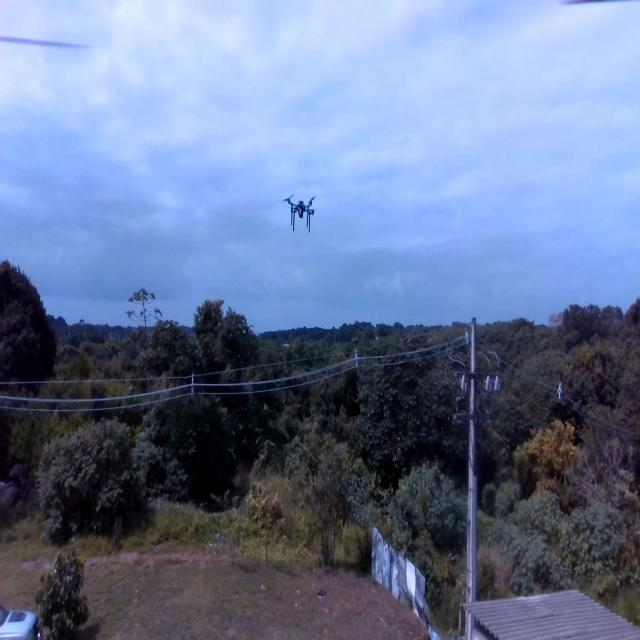-uav-: (277, 182, 324, 245)
